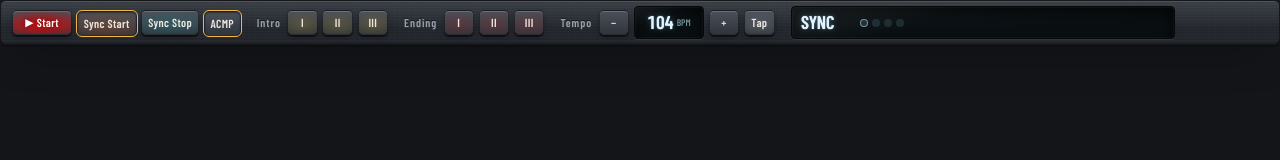
it: transport section › Intro and Ending buttons send their section, and light from the pad lamps
Click the button "II" in the row of "Intro". click: (338, 23)
box: [322,10,353,35]
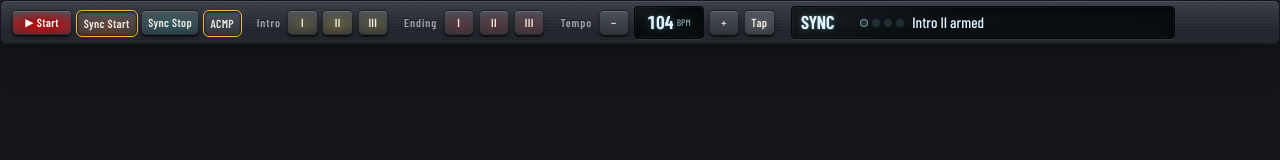
expect the button "I" next to "Ending" is shown: met, box [444,10,474,35]
expect the text with class "now" reads "Intro II armed": met, box [912,13,984,31]
